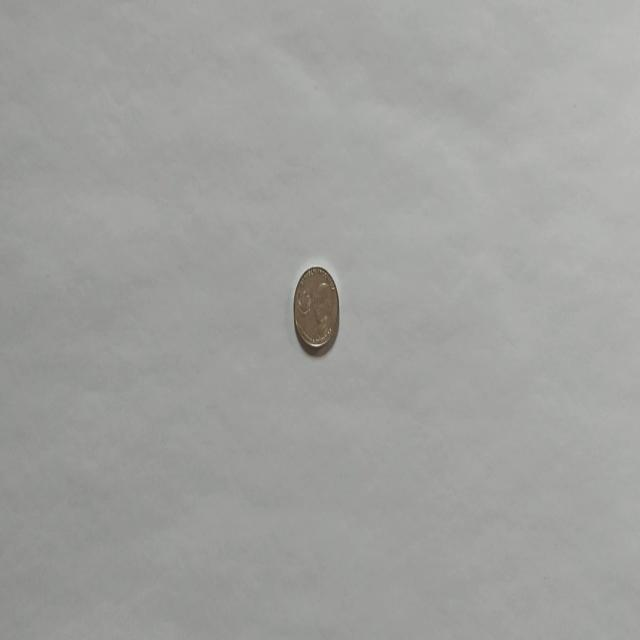lima ratus rupiah: (292, 264, 340, 354)
